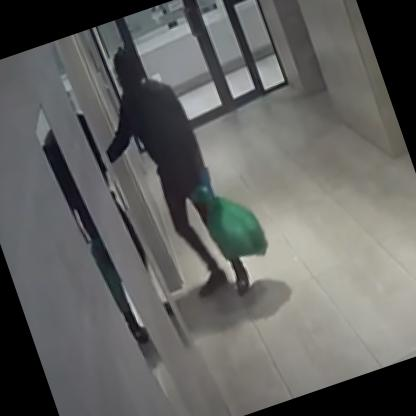Human Body: (72, 31, 255, 325)
